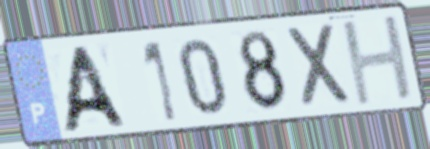0: (175, 36, 231, 118)
1: (140, 37, 180, 124)
8: (235, 28, 290, 115)
A: (58, 42, 131, 135)
H: (338, 11, 418, 109)
X: (283, 20, 356, 112)
